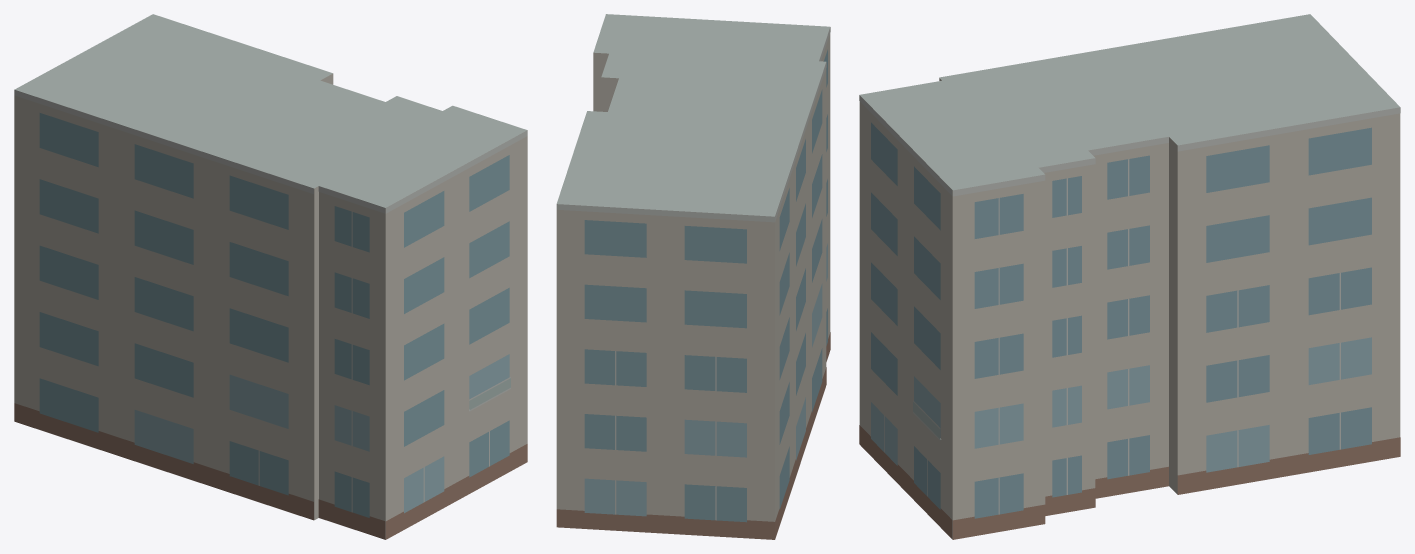
The model's file is survey-upis-32758469.glb.
3 renders of one model, left to right at view 1: azimuth 30°, elevation 25°; view 2: azimuth 150°, elevation 25°; view 3: azimuth 270°, elevation 25°, orthographic. The views are drawn at different scales.
Parts seen in each view (by area): view 1: survey-upis-32758469.tmp; view 2: survey-upis-32758469.tmp; view 3: survey-upis-32758469.tmp.
Boxes of the visible parts, x1,y1,x2,y2 form: survey-upis-32758469.tmp: (14,14,527,539); survey-upis-32758469.tmp: (556,14,830,539); survey-upis-32758469.tmp: (859,14,1400,539).
Bounding box in the file's own units: 15.06 × 13.9 × 19.51.
